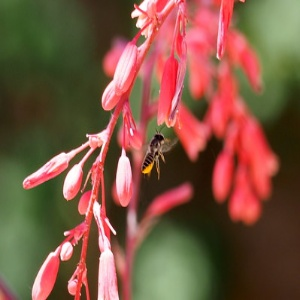bee: (142, 124, 174, 178)
